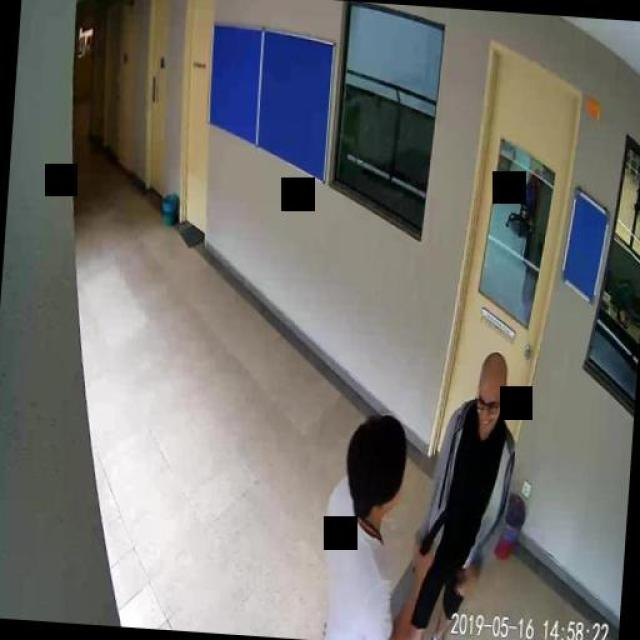gun: (415, 500, 451, 558)
